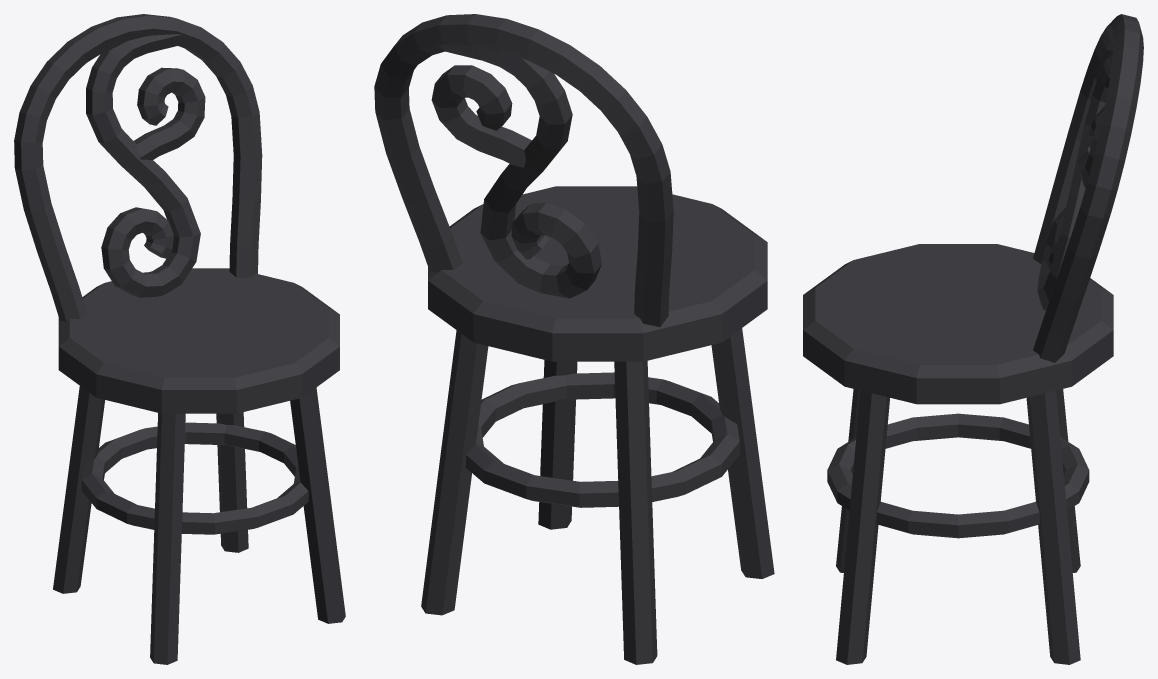
The model's file is FMS_Garden_Bistro_Chair.fbx.
3 views of the same model, side by side, from view 1: azimuth 30°, elevation 25°; view 2: azimuth 150°, elevation 25°; view 3: azimuth 270°, elevation 25° (orthographic). The views are drawn at different scales.
Parts seen in each view (by area): view 1: FMS_Garden_Bistro_Chair_Body; view 2: FMS_Garden_Bistro_Chair_Body; view 3: FMS_Garden_Bistro_Chair_Body.
Boxes of the visible parts, left/top/right/bottom form: FMS_Garden_Bistro_Chair_Body: left=14, top=14, right=345, bottom=664; FMS_Garden_Bistro_Chair_Body: left=374, top=14, right=774, bottom=664; FMS_Garden_Bistro_Chair_Body: left=803, top=14, right=1143, bottom=664.
Bounding box in the file's own units: 0.41 × 0.85 × 0.45.
Materials: 1 (1 with a texture image).
